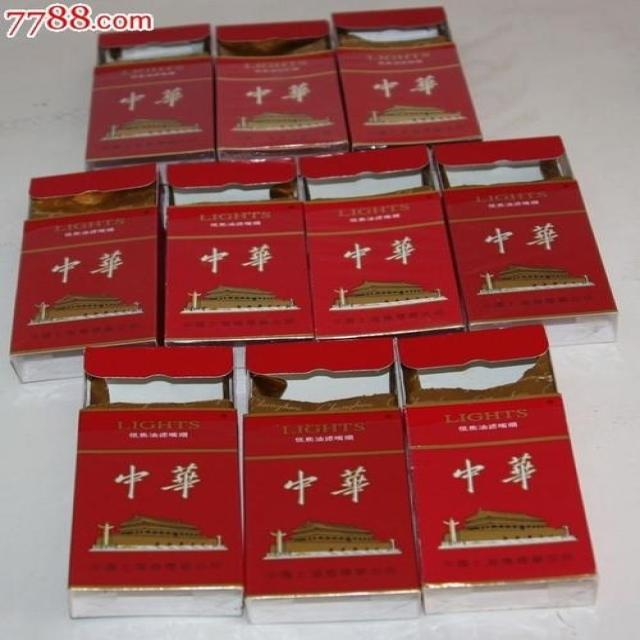box: (396, 325, 598, 617), (247, 338, 421, 625), (69, 347, 244, 618), (433, 136, 616, 347), (293, 144, 466, 338), (12, 165, 157, 385), (165, 157, 315, 346), (333, 6, 481, 151), (86, 23, 216, 170), (218, 18, 349, 162)
